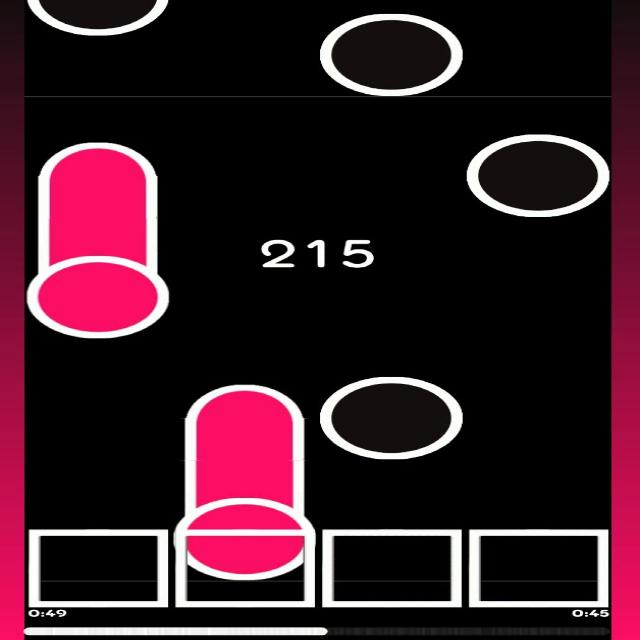end_hold: (33, 134, 166, 182), (188, 378, 306, 428)
note: (461, 132, 614, 218), (318, 9, 466, 95), (318, 375, 464, 461), (20, 0, 176, 39)
start_hold: (23, 228, 173, 338), (176, 486, 316, 582)
